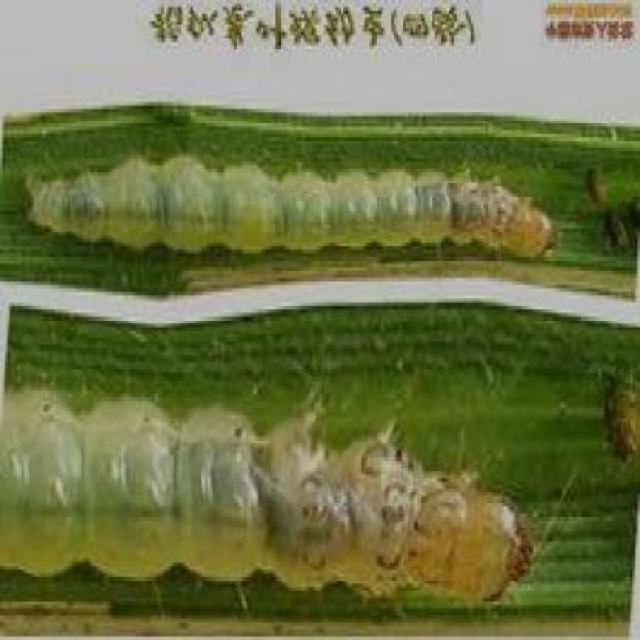leaf-folder: (25, 373, 562, 607), (14, 123, 572, 288)
